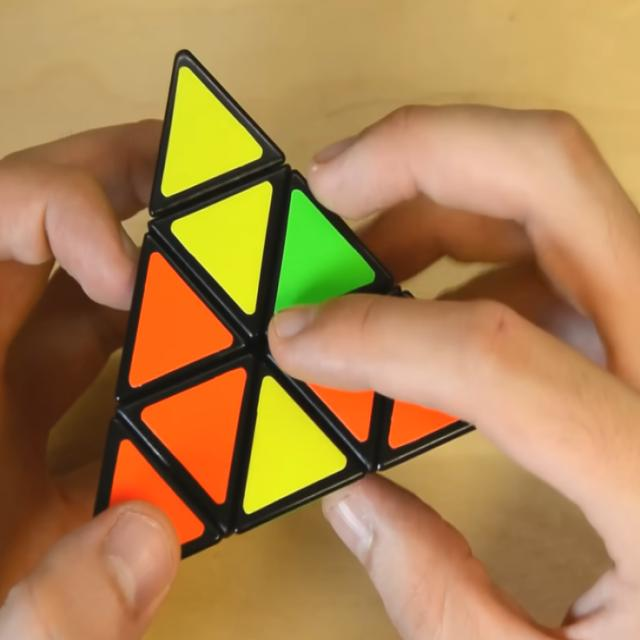Pyraminx: (96, 51, 472, 556)
